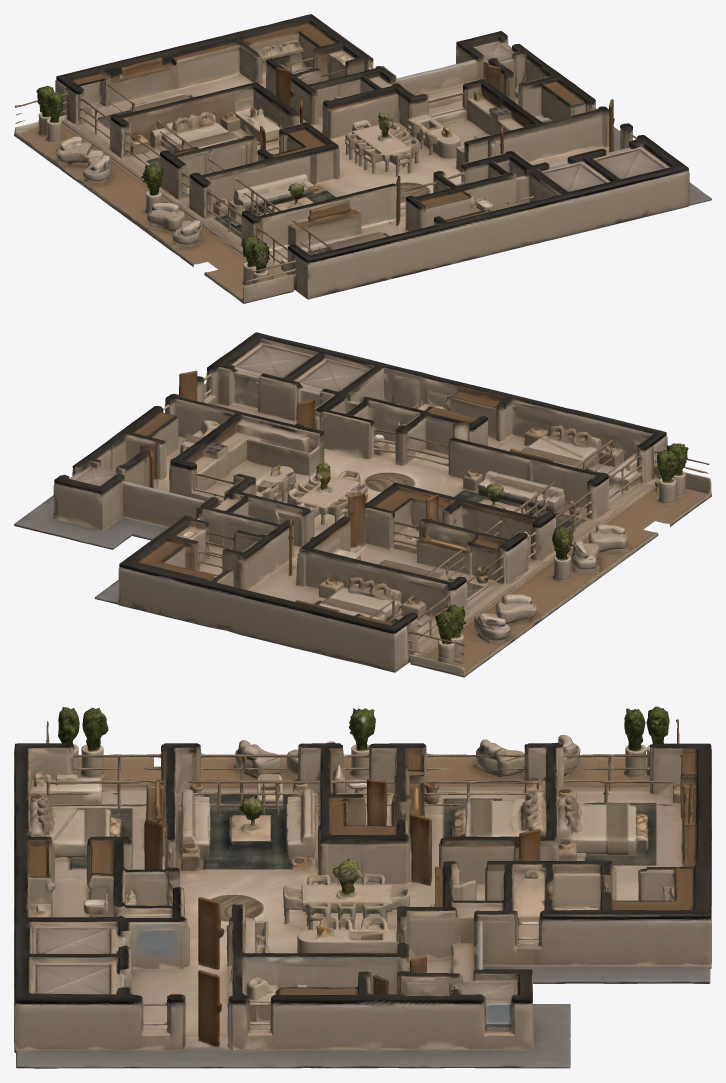
File: residence.glb
3 views of the same model, one above another, from view 1: azimuth 30°, elevation 25°; view 2: azimuth 150°, elevation 25°; view 3: azimuth 270°, elevation 25° (orthographic). The views are drawn at different scales.
Visible parts, largest first — view 1: tripo_node_7990ddd2-591d-4fac-858f-5158ce47e286; view 2: tripo_node_7990ddd2-591d-4fac-858f-5158ce47e286; view 3: tripo_node_7990ddd2-591d-4fac-858f-5158ce47e286.
Part boxes in pixels (left/top/right/bottom): tripo_node_7990ddd2-591d-4fac-858f-5158ce47e286: left=14, top=14, right=711, bottom=303; tripo_node_7990ddd2-591d-4fac-858f-5158ce47e286: left=14, top=332, right=711, bottom=677; tripo_node_7990ddd2-591d-4fac-858f-5158ce47e286: left=14, top=706, right=711, bottom=1068.
Size of the model in its own units: 1 by 0.1136 by 0.9571.
Materials: 1 (1 with a texture image).
